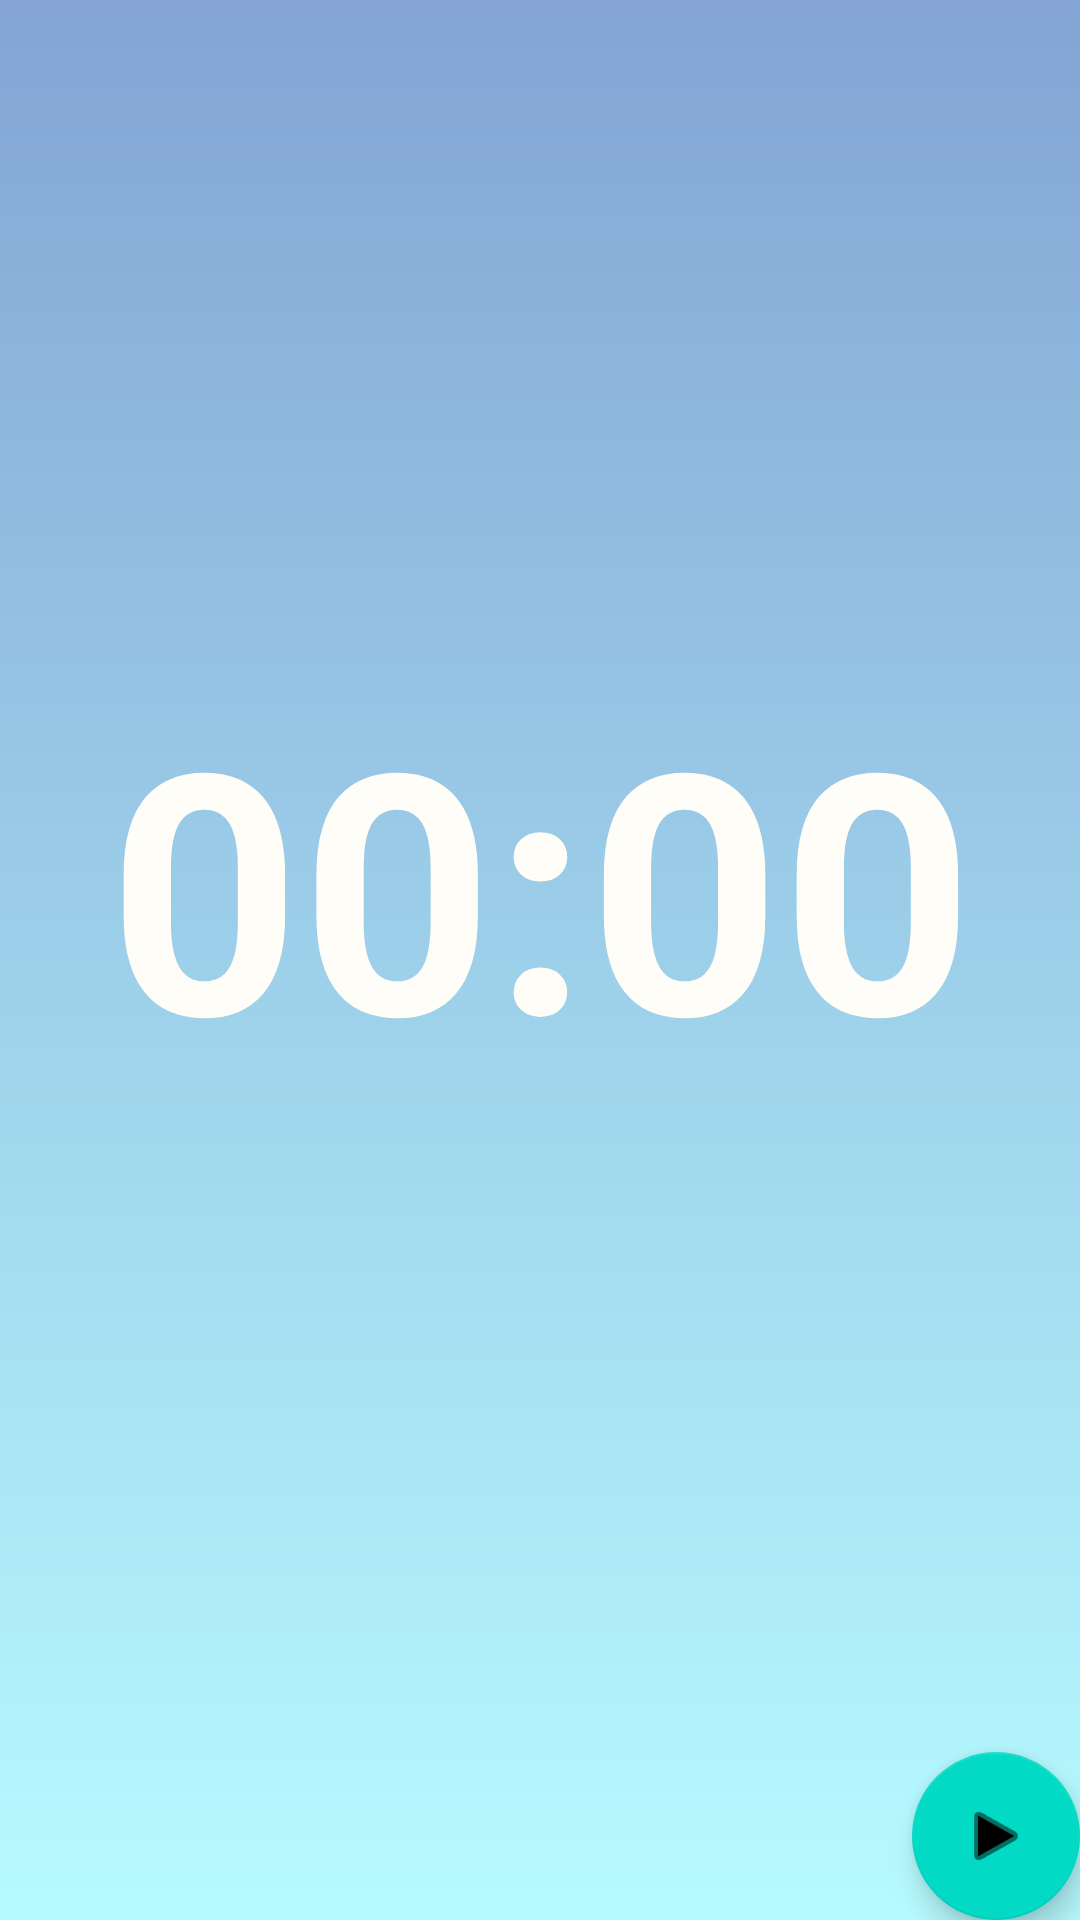

Named icons in this screenshot (1080*1920) and their bounding boxes, (x1, y1, x2, y2):
play: (912, 1752, 1080, 1920)
